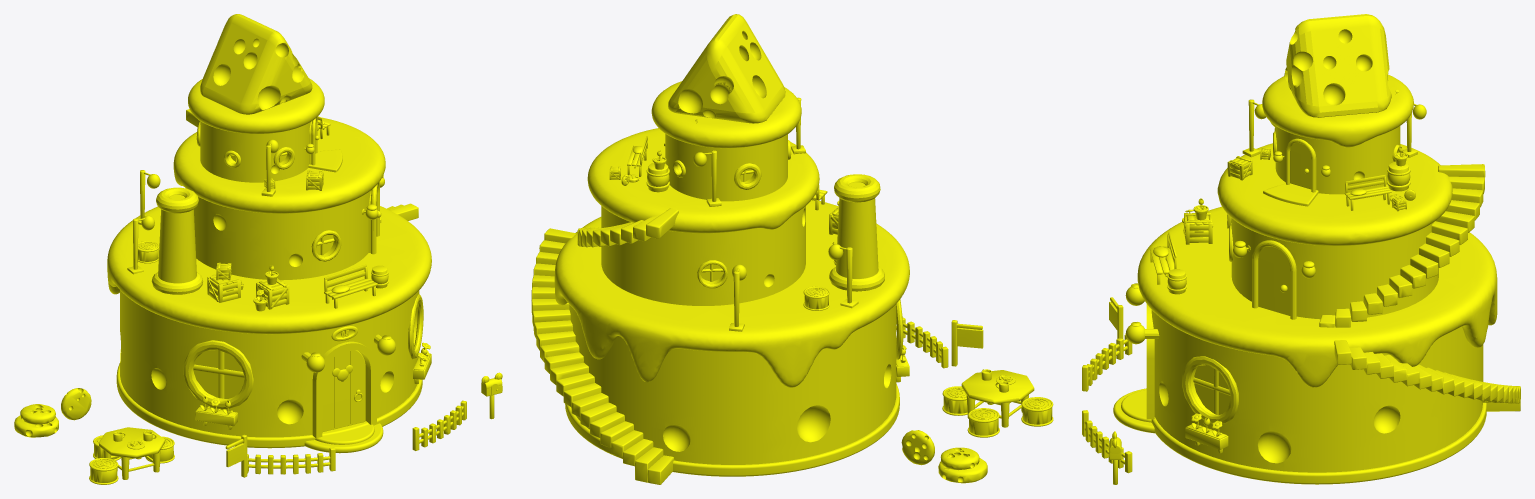
Rendered from cheese.glb.
3 renders of one model, left to right at view 1: azimuth 30°, elevation 25°; view 2: azimuth 150°, elevation 25°; view 3: azimuth 270°, elevation 25°, orthographic. The views are drawn at different scales.
Parts seen in each view (by area): view 1: T1_Body, T1_Melt, T2_Body, T2_Melt, Top_Wedge, T3_Body, T3_Melt, House_Plinth, Door, Chimney_Body, Door_Frame, Win_T1_140_Ring (+19 smaller); view 2: T1_Body, T1_Melt, T2_Body, T2_Melt, Stair_A, Top_Wedge, T3_Body, T3_Melt, House_Plinth, Chimney_Body, Stair_B, Table_Top (+8 smaller); view 3: T1_Body, T1_Melt, T2_Melt, Top_Wedge, T2_Body, Stair_B, T3_Melt, House_Plinth, Stair_A, T3_Body, Door_T2, Win_T1_40_Ring (+18 smaller).
Boxes of the visible parts, box(x1,y1,x2,y2) form: T1_Body: box(120, 290, 419, 437); T1_Melt: box(107, 206, 431, 334); T2_Body: box(194, 190, 370, 280); T2_Melt: box(173, 117, 385, 213); Top_Wedge: box(200, 14, 312, 114); T3_Body: box(200, 121, 310, 182); T3_Melt: box(188, 78, 324, 133); House_Plinth: box(116, 363, 422, 448); Door: box(322, 349, 365, 432); Chimney_Body: box(158, 209, 196, 283); Door_Frame: box(312, 341, 376, 438); Win_T1_140_Ring: box(183, 340, 253, 409); T1_Body: box(569, 304, 896, 464); T1_Melt: box(554, 200, 909, 387); T2_Body: box(601, 206, 805, 305); T2_Melt: box(587, 128, 819, 233); Stair_A: box(531, 228, 674, 484); Top_Wedge: box(668, 14, 785, 123); T3_Body: box(665, 134, 787, 201); T3_Melt: box(651, 81, 801, 148); House_Plinth: box(565, 384, 899, 476); Chimney_Body: box(836, 198, 878, 278); Stair_B: box(577, 208, 678, 247); Table_Top: box(961, 370, 1034, 403); T1_Body: box(1151, 310, 1483, 472); T1_Melt: box(1137, 206, 1497, 387); T2_Melt: box(1217, 143, 1452, 245); Top_Wedge: box(1284, 14, 1391, 117); T2_Body: box(1231, 218, 1438, 319); Stair_B: box(1319, 164, 1485, 327); T3_Melt: box(1262, 74, 1413, 147); House_Plinth: box(1151, 402, 1486, 484); Stair_A: box(1334, 340, 1520, 411); T3_Body: box(1275, 126, 1400, 194); Door_T2: box(1258, 246, 1296, 315); Win_T1_40_Ring: box(1182, 356, 1238, 423).
Bounding box in the file's own units: 48.67 × 41.38 × 41.79.
